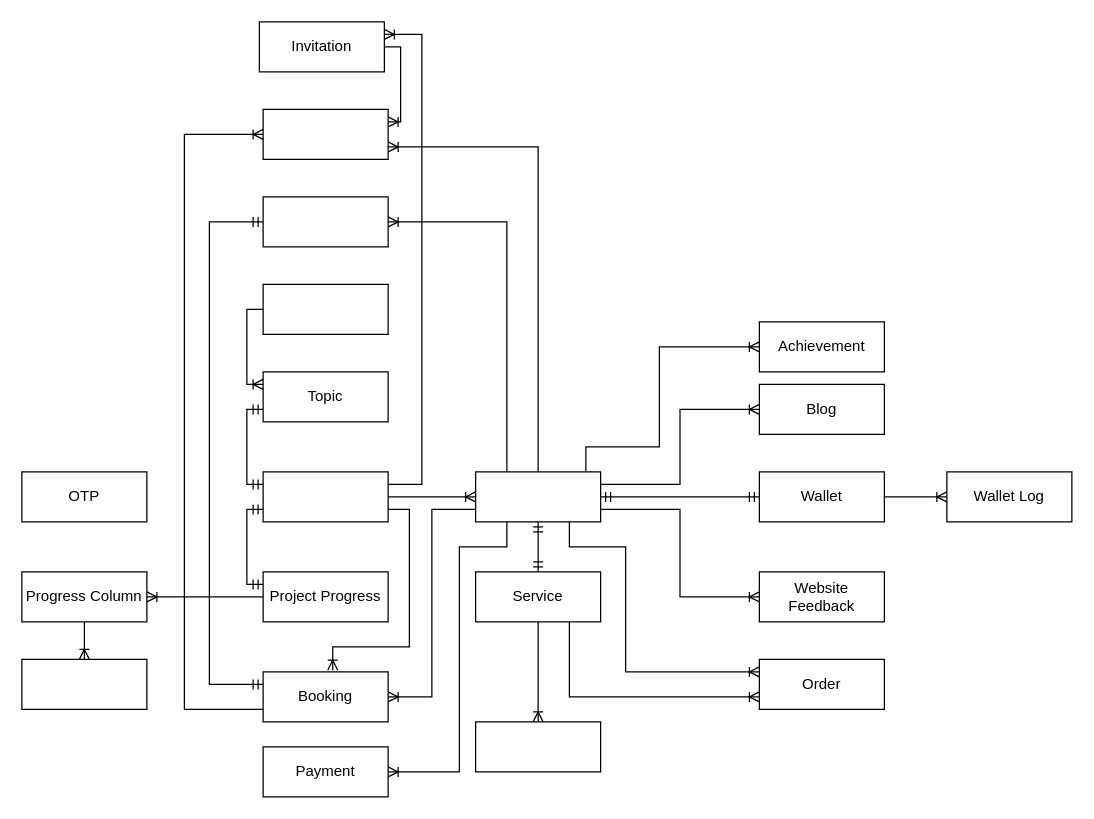
Some shapes in this 1094 by 819 pixel diagram are drawn without their labels. The box of each missing label's shape, as (x1, y1, x2, y2) in pixels:
Account: (474, 471, 601, 522)
Feedback: (474, 721, 601, 772)
Group: (262, 471, 388, 522)
Notification: (262, 108, 388, 159)
Progress Card: (21, 658, 147, 709)
Schedule: (262, 196, 388, 247)
Semester: (262, 283, 388, 334)
